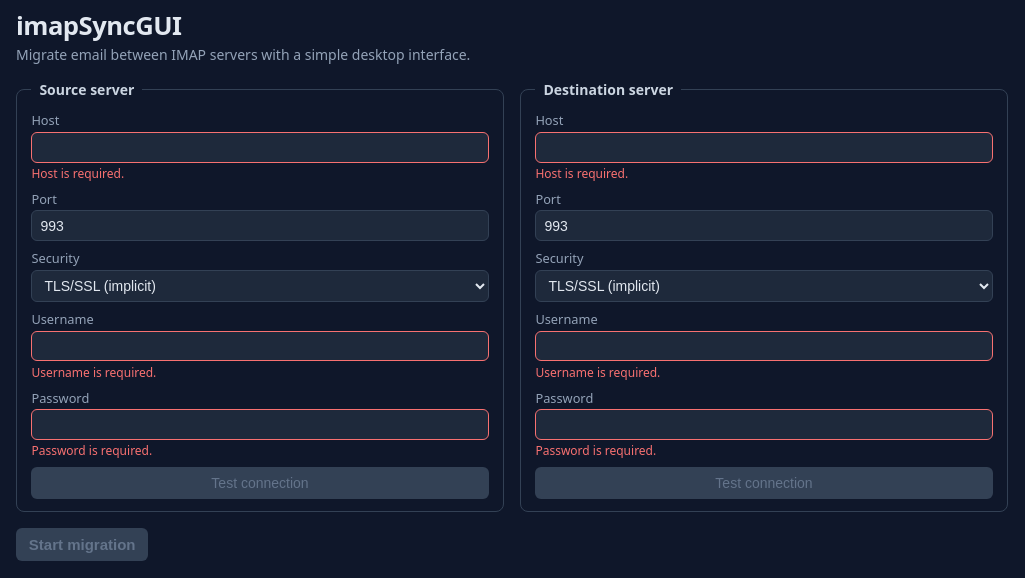
Test: App migration form › updates the port to the new default when security mode changes
Select "STARTTLS" in the dropdown labelled "Security" below "Source server" at (260, 286), box [31,270,489,302]
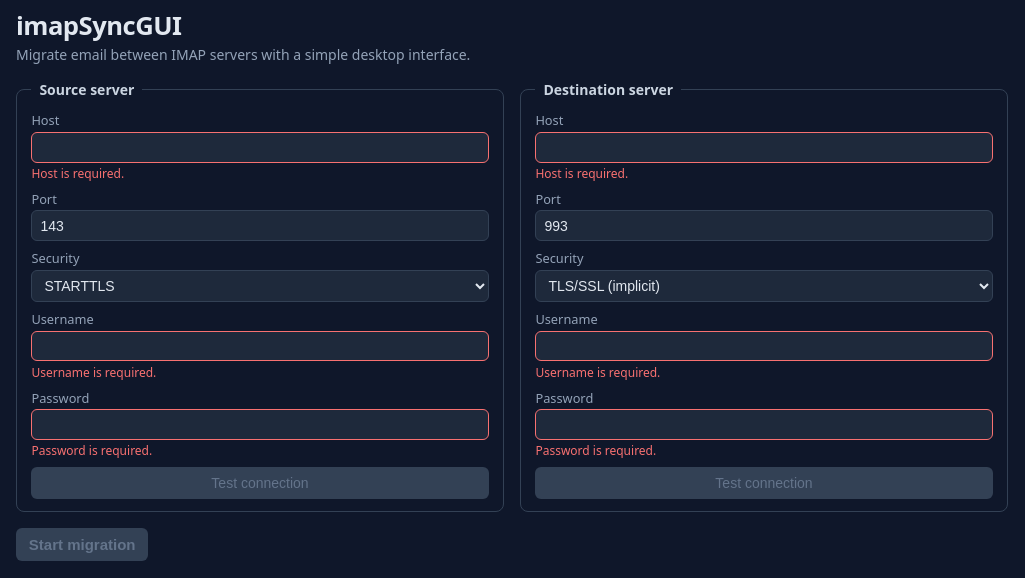
Result: the field labelled "Port" below "Source server" holds "143" at [31,210,489,241]
